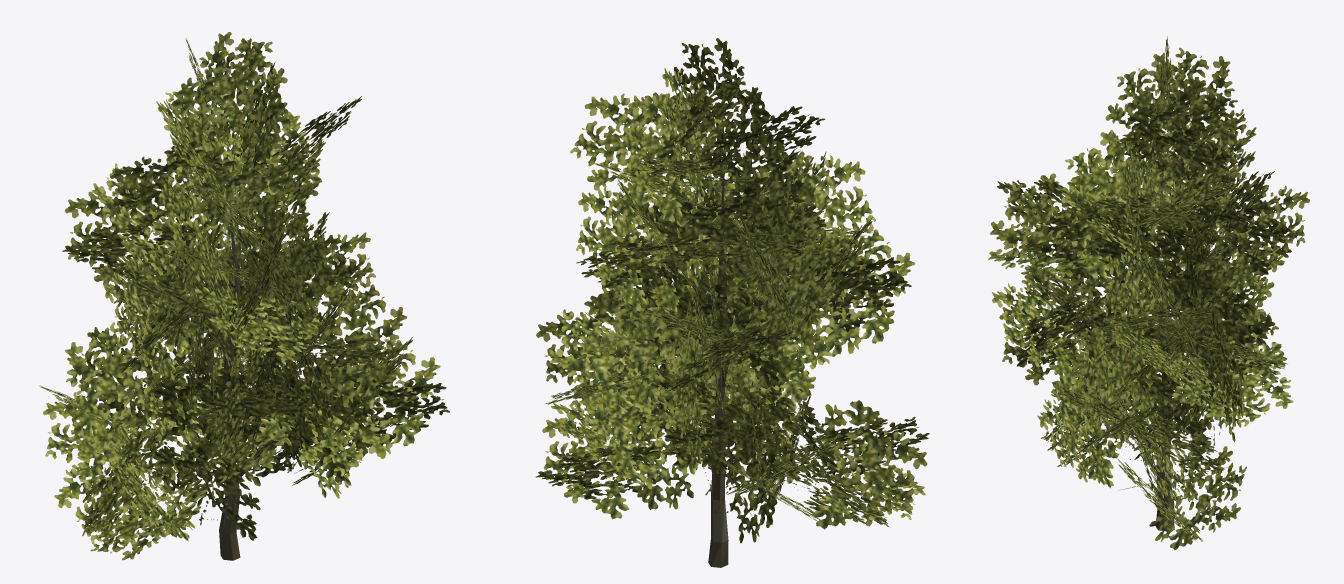
The model's file is laubbaum_01.glb.
3 views of the same model, side by side, from view 1: azimuth 30°, elevation 25°; view 2: azimuth 150°, elevation 25°; view 3: azimuth 270°, elevation 25° (orthographic). The views are drawn at different scales.
Visible parts, largest first — view 1: laub, rinde; view 2: laub, rinde; view 3: laub, rinde.
Part boxes in pixels (x1,y1,x2,y2): laub: (39,32,449,560); rinde: (186,161,286,560); laub: (535,38,929,543); rinde: (666,166,784,567); laub: (988,36,1309,550); rinde: (1091,155,1215,531).
Size of the model in its own units: 5.91 by 7.8 by 5.09.
Materials: 2 (1 with a texture image).
